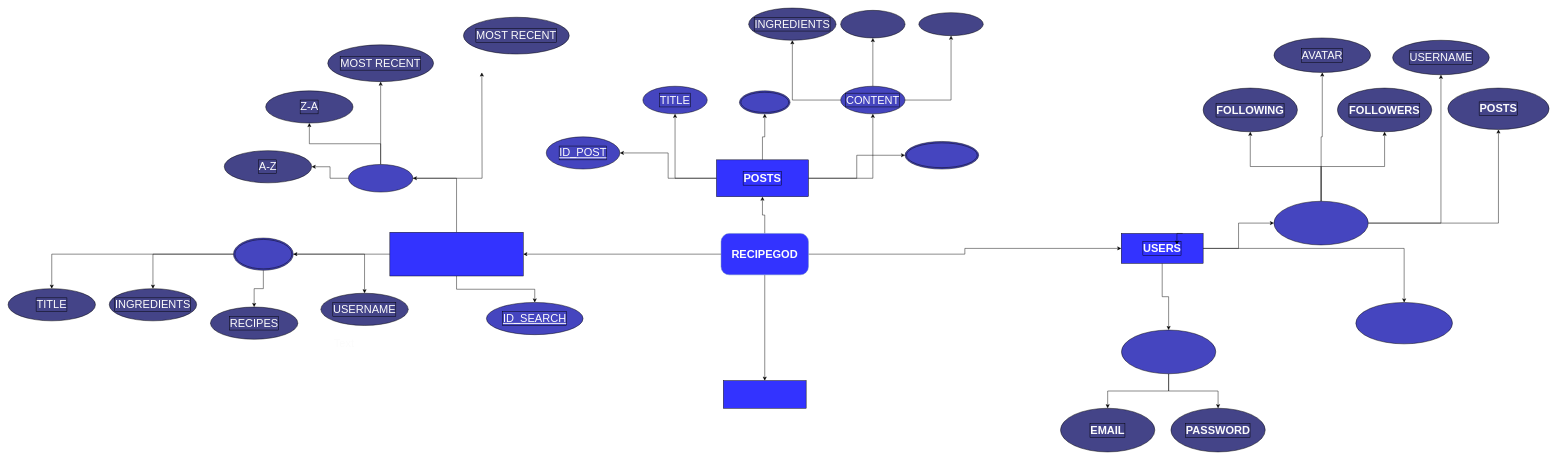
Image size: 1557x460. Some labels were removed from this diagram. The box of each missing label's shape, as (x1, y1, x2, y2) in pixels:
COMMENTS: (723, 380, 806, 408)
FILTER: (348, 164, 413, 192)
HIREABLE: (905, 141, 979, 169)
ID_USUARIO: (1355, 302, 1452, 344)
IMAGES: (840, 10, 905, 38)
LOGIN: (1121, 330, 1216, 374)
PROFILE: (1274, 201, 1368, 245)
QUERY: (233, 238, 293, 270)
SEARCHES: (389, 232, 523, 276)
STEPS: (918, 12, 983, 36)
TAGS: (739, 90, 790, 114)
